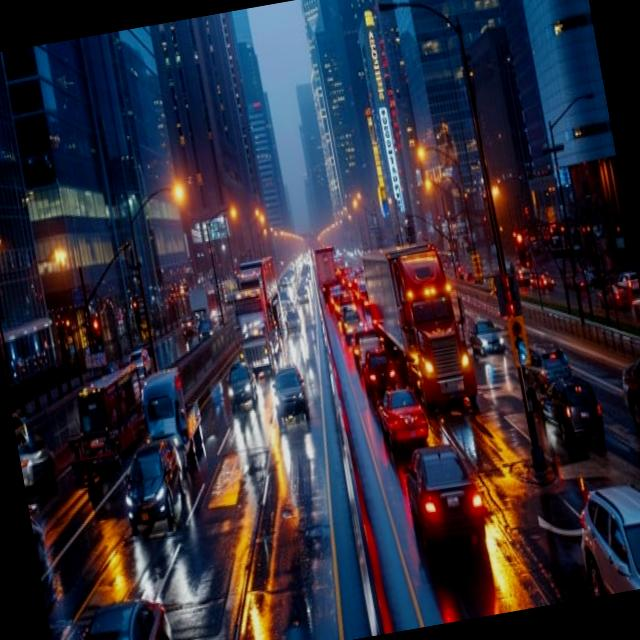Vehicle: (387, 232, 482, 418), (397, 434, 492, 558), (44, 572, 194, 640), (564, 464, 640, 598), (130, 348, 217, 448), (119, 432, 195, 546), (228, 250, 292, 366), (536, 379, 612, 454), (267, 357, 321, 438), (373, 386, 428, 441), (220, 354, 262, 426), (618, 338, 640, 458), (470, 312, 508, 363), (360, 348, 402, 392), (530, 336, 574, 378)
